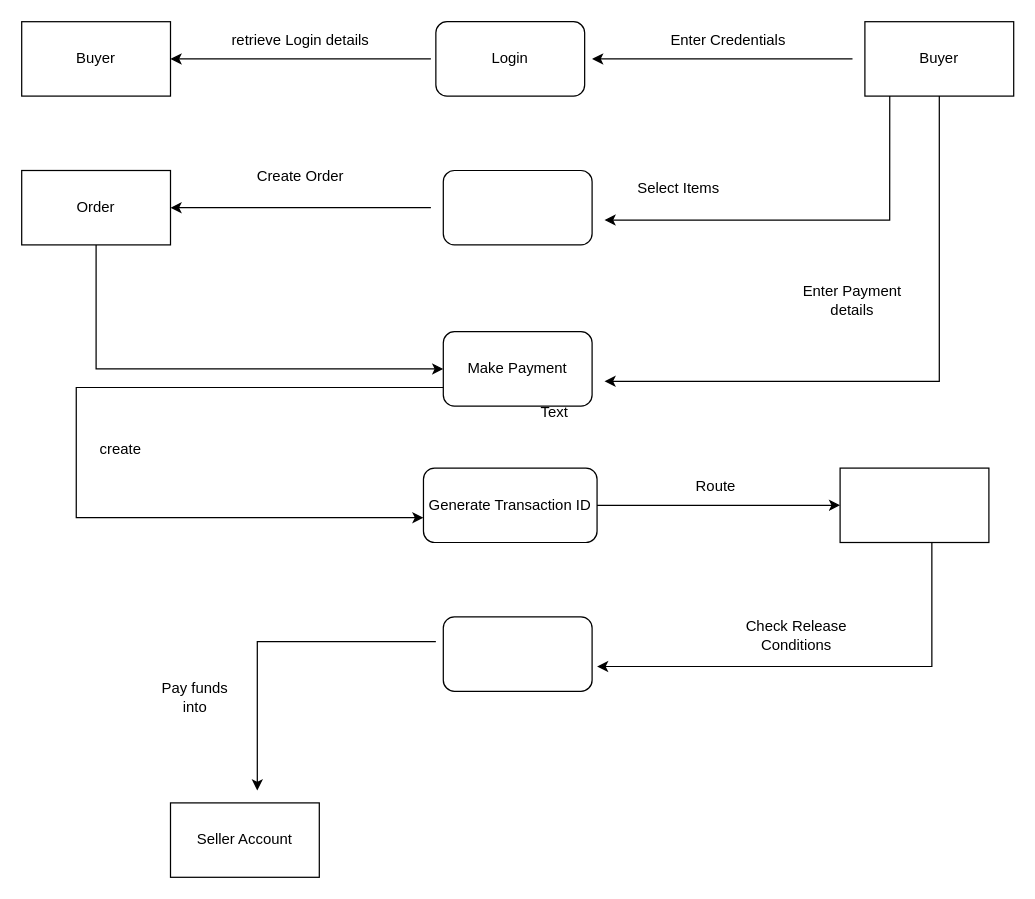
This 1035x899 diagram has some shape labels left out. Each missing label, with the centre of its shape:
Escrow Agent: point 914,504
Place Order: point 517,207
Release Funds: point 517,653
